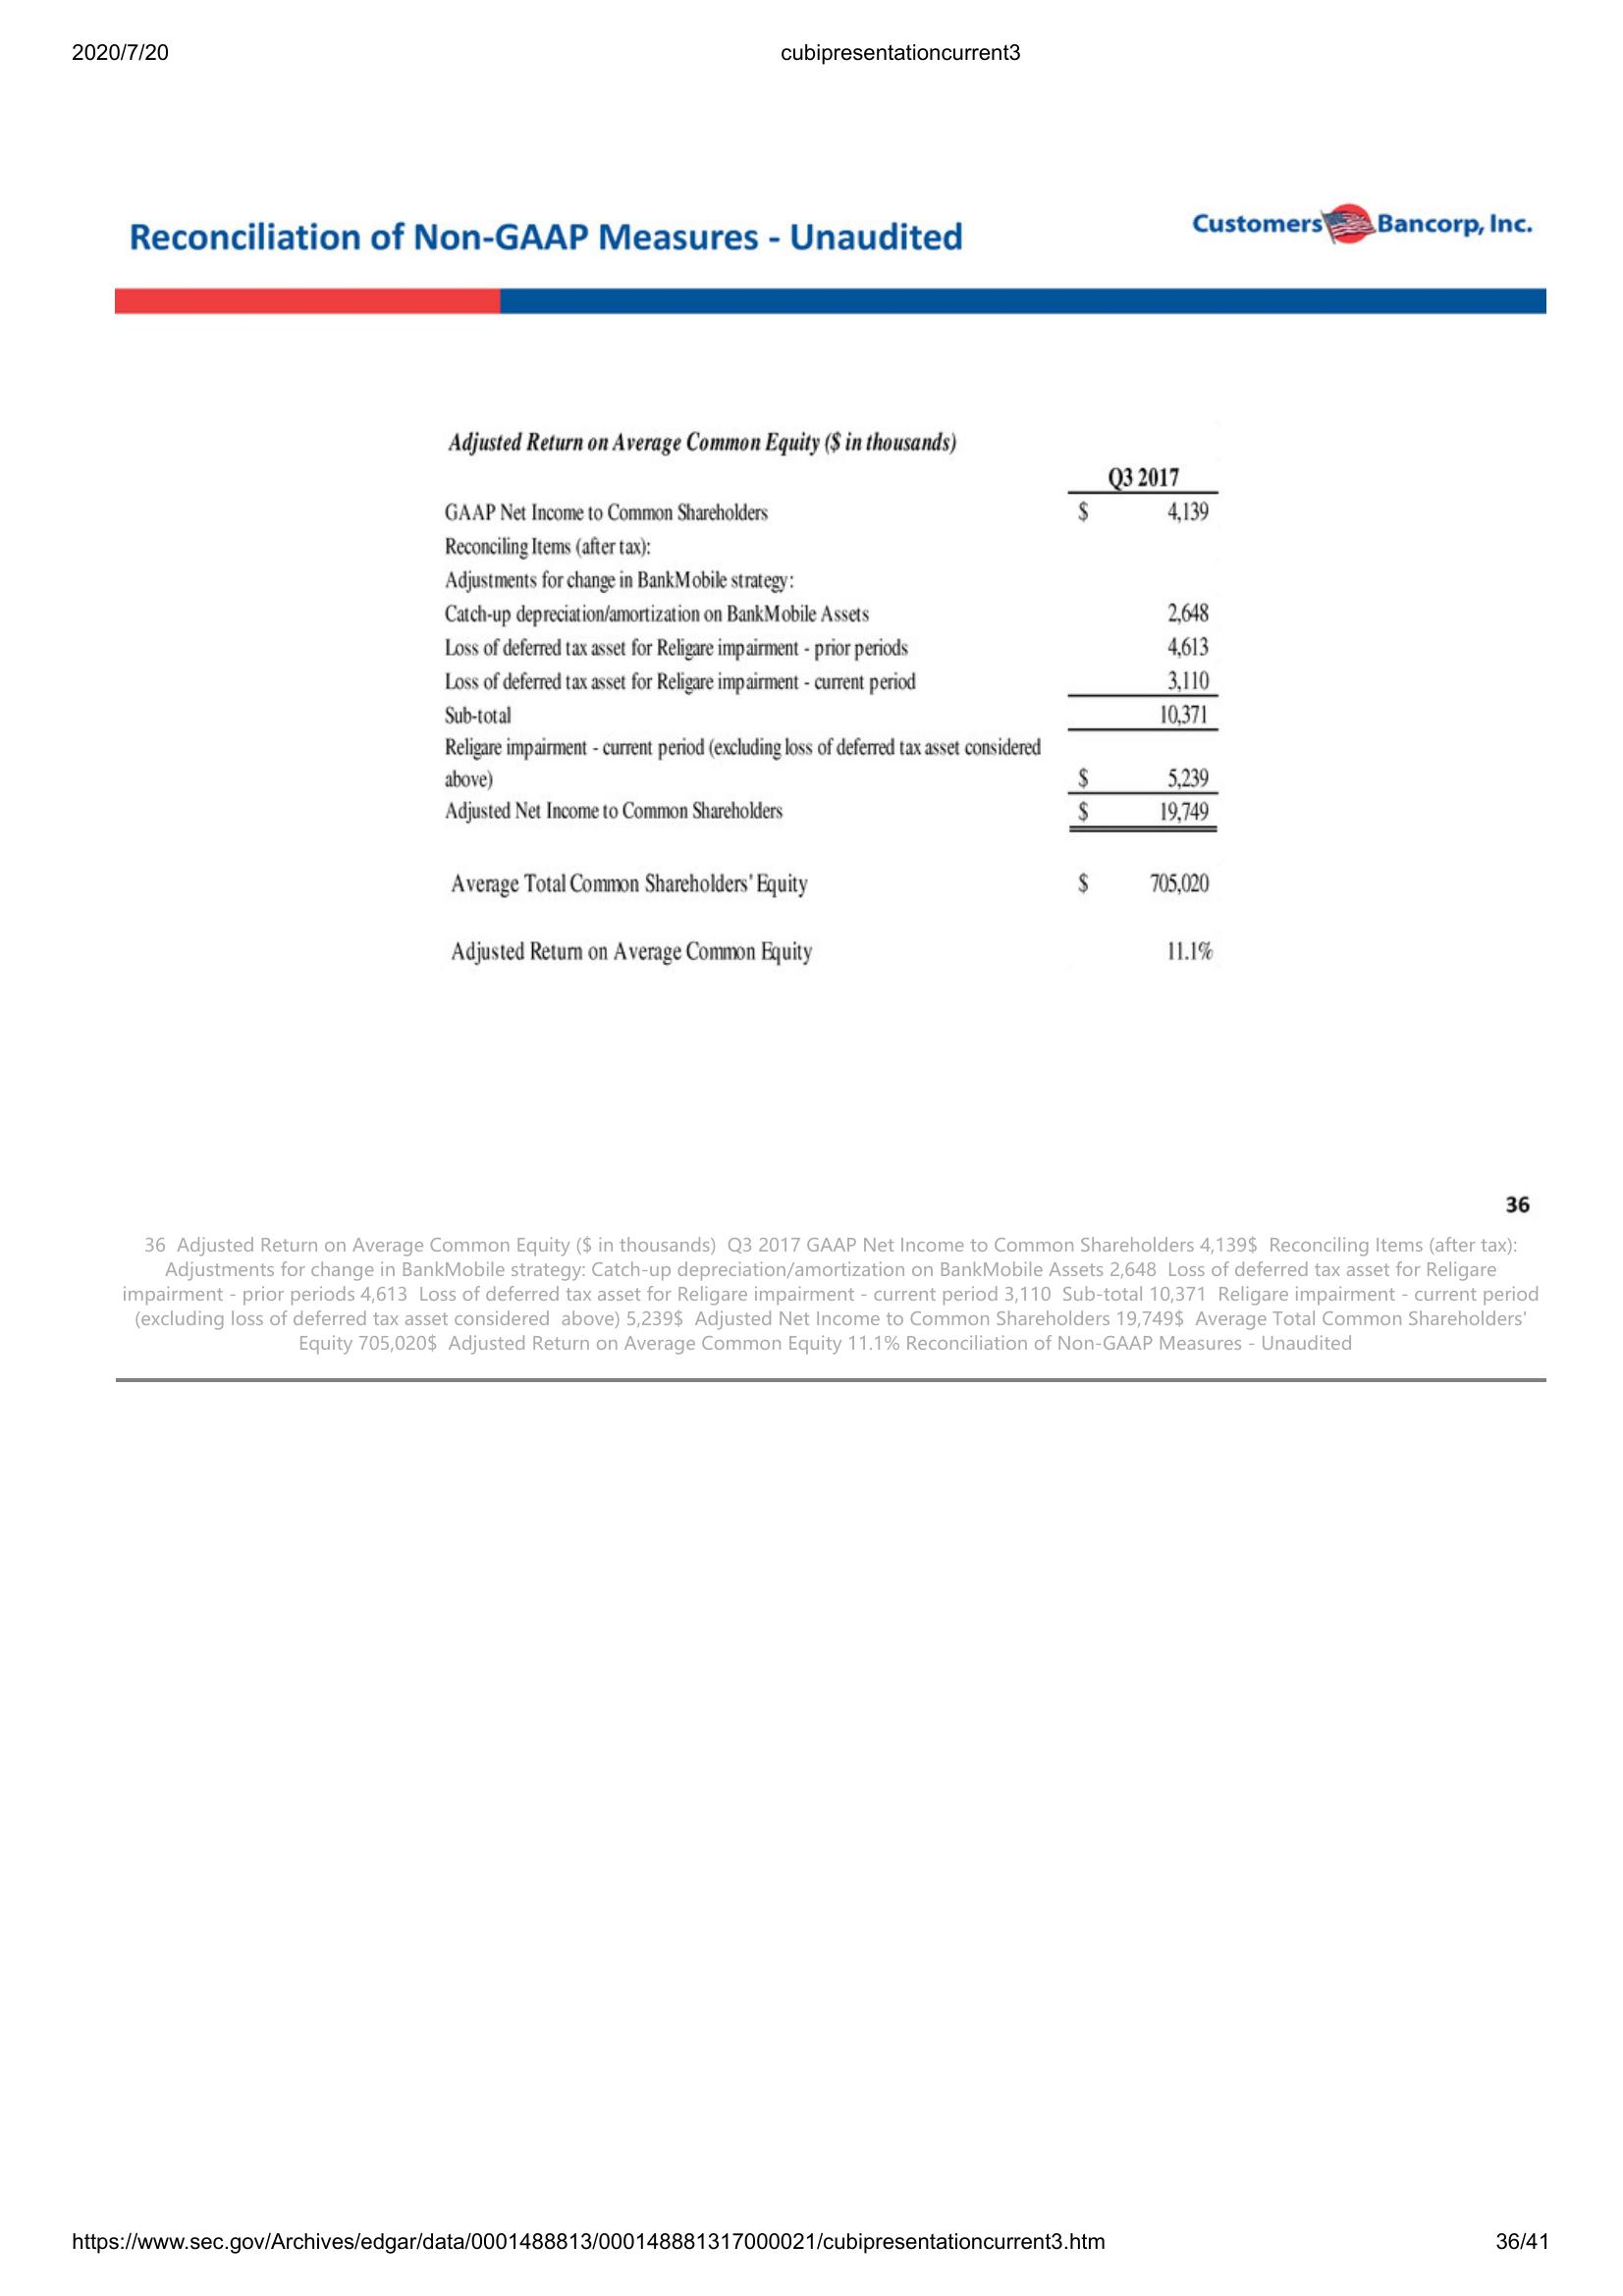table: (436, 411, 1226, 981)
